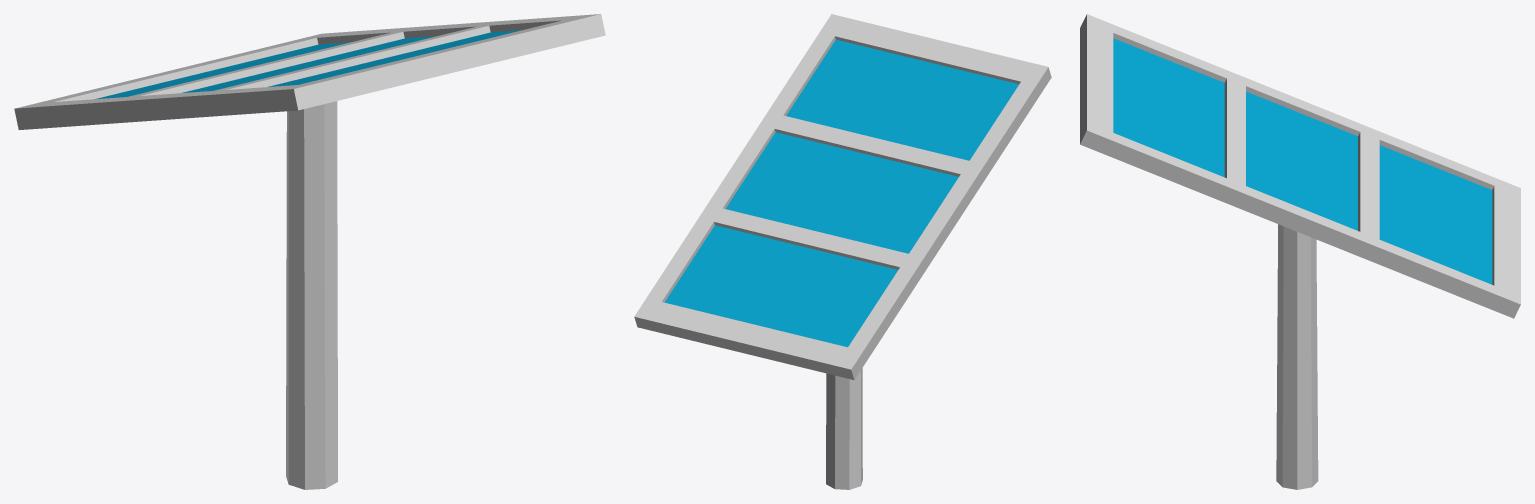
The model's file is SolarPanel.glb.
The picture shows the model from 3 angles, left to right: view 1: azimuth 30°, elevation 25°; view 2: azimuth 150°, elevation 25°; view 3: azimuth 270°, elevation 25°; orthographic projection. The views are drawn at different scales.
Visible parts, largest first — view 1: Frame, Support, Panel; view 2: Panel, Frame, Support; view 3: Panel, Frame, Support.
Boxes of the visible parts, x1,y1,x2,y2 form: Frame: [14, 14, 605, 129]; Support: [286, 101, 337, 489]; Panel: [95, 30, 520, 99]; Panel: [664, 39, 1018, 347]; Frame: [634, 14, 1051, 379]; Support: [826, 368, 862, 489]; Panel: [1113, 38, 1492, 284]; Frame: [1080, 14, 1520, 318]; Support: [1276, 224, 1318, 489].
Bounding box in the file's own units: 1.16 × 1.9 × 1.86.
